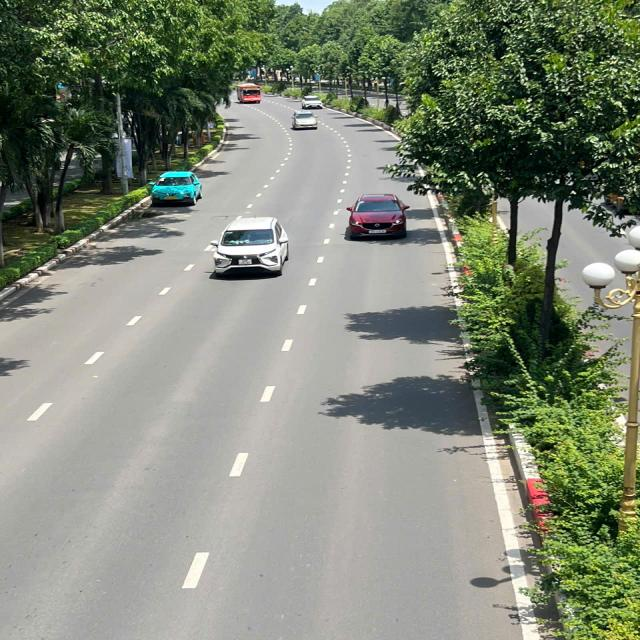car: (205, 214, 294, 282), (342, 189, 414, 245), (147, 165, 206, 212), (287, 106, 322, 132), (235, 78, 266, 107), (299, 93, 326, 111)
